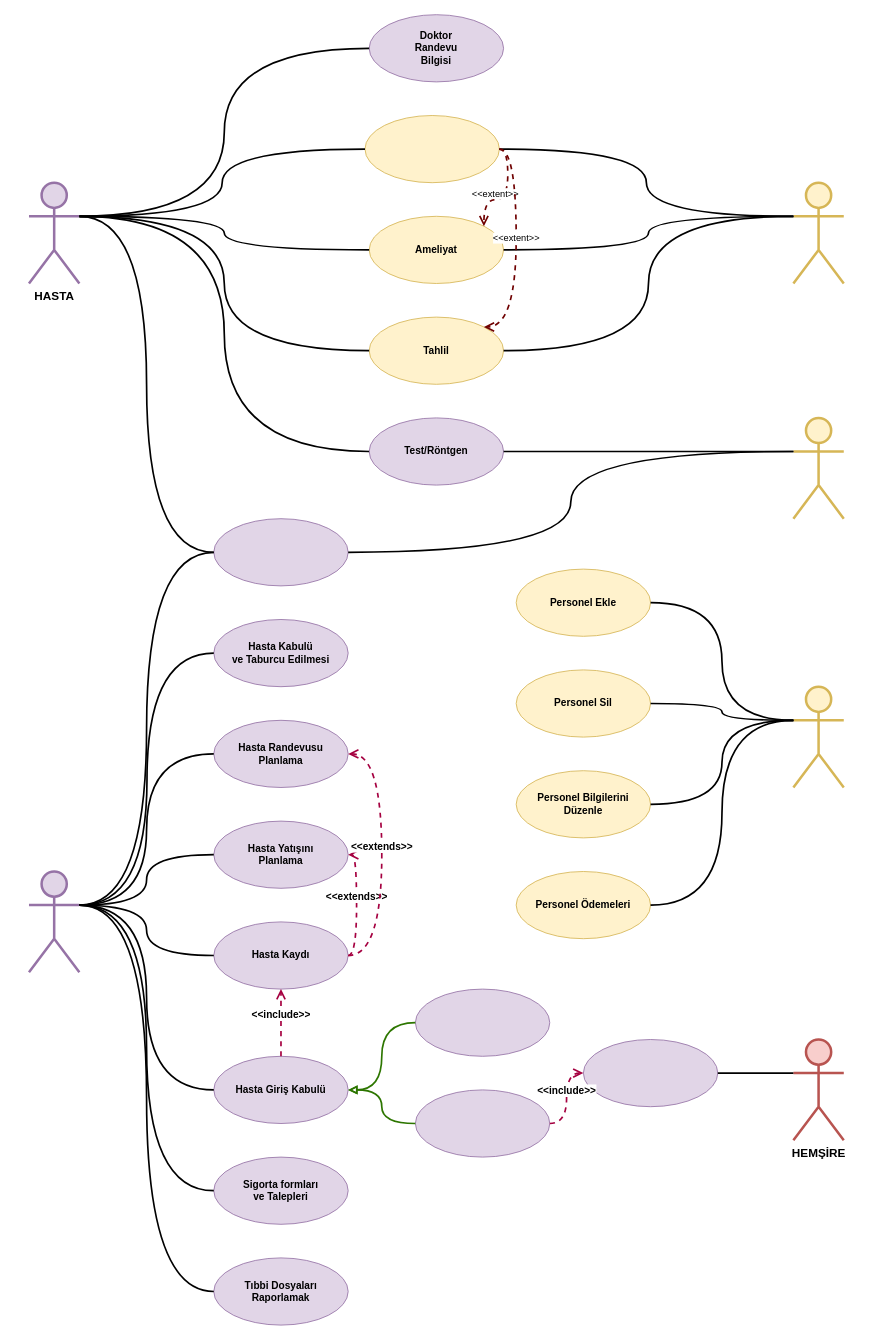
The diagram is 874 pixels wide and 1340 high, and some of its shapes have lost their labels. Each missing label, with the centre of its shape:
"ADMİN" goes at (818,736).
"Ayakta Hasta Giriş Kabulü" goes at (482,1022).
"Check-Up" goes at (431,149).
"DOKTOR" goes at (818,232).
"Hasta Ödemesi" goes at (280,552).
"LABORATUAR TEKNİKERİ" goes at (818,468).
"RESEPSİYON" goes at (53,921).
"Yatak Tahisi" goes at (650,1073).
"Yatan Hasta Giriş Kabulü" goes at (482,1123).
